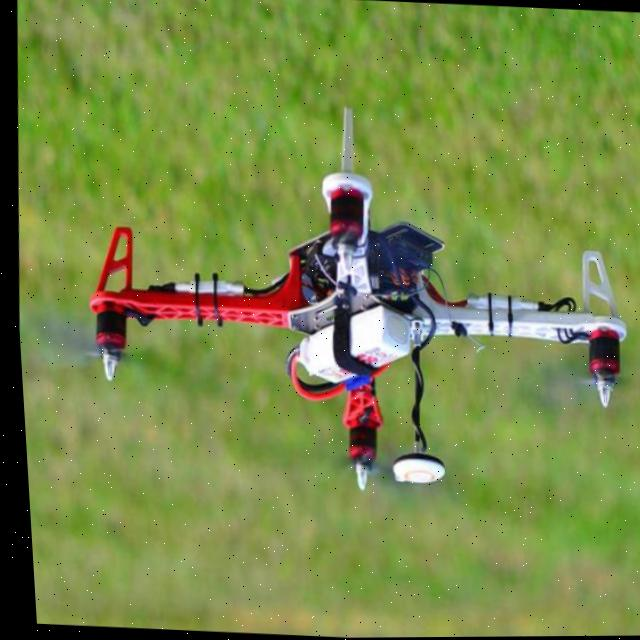drones: (4, 75, 640, 535)
